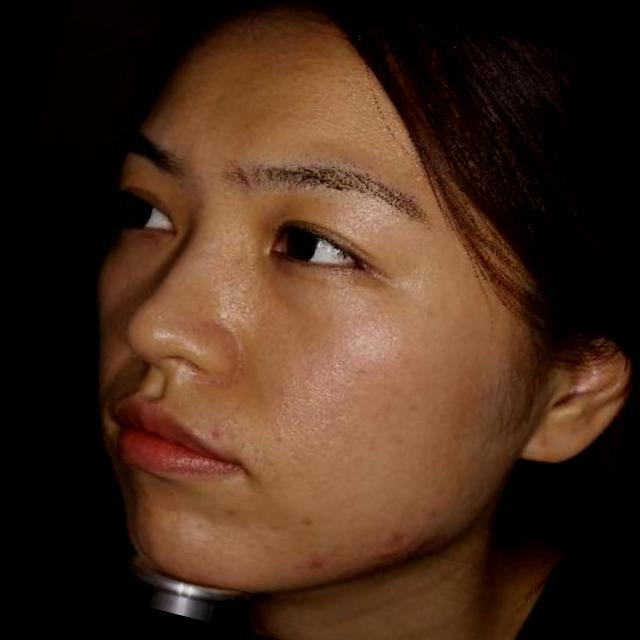darkspot: (298, 552, 328, 574), (293, 512, 318, 536), (220, 504, 245, 523), (422, 502, 443, 523), (384, 526, 406, 546)
nodules: (202, 420, 232, 448), (417, 304, 433, 324)
